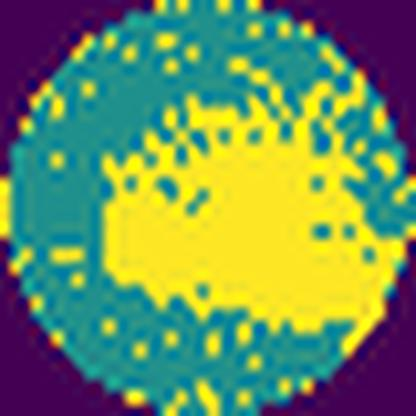Loc: (99, 71, 402, 352)
